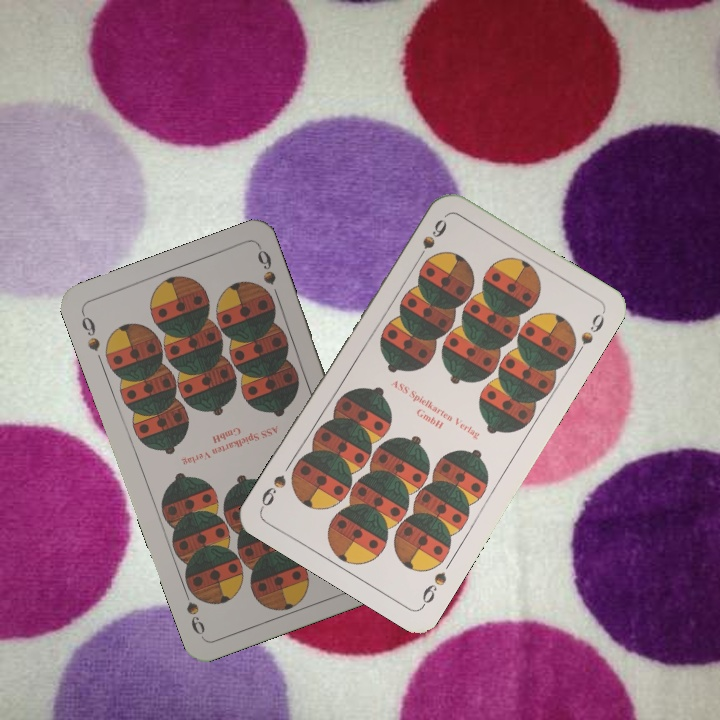S9: (411, 215, 450, 266), (417, 567, 449, 610), (77, 308, 103, 354)
